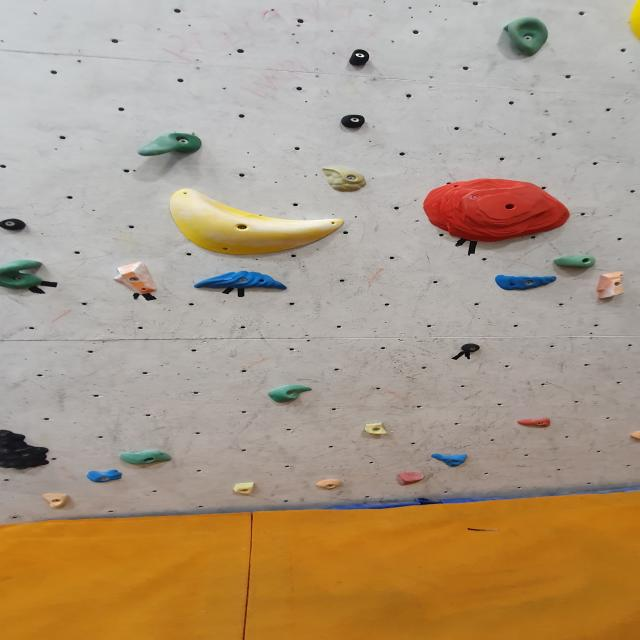Crimp: (422, 180, 574, 244), (189, 267, 295, 294), (312, 164, 372, 193), (493, 274, 562, 291), (430, 446, 475, 468), (33, 490, 81, 510), (306, 478, 348, 495), (392, 470, 431, 488), (228, 482, 266, 499), (356, 420, 388, 439), (518, 417, 556, 432), (86, 469, 124, 482)
Jug: (497, 17, 552, 58), (1, 260, 51, 294), (268, 385, 311, 408), (118, 449, 174, 466), (552, 255, 598, 271)
Pinch: (101, 257, 160, 299), (595, 270, 629, 302), (332, 112, 376, 132), (344, 50, 377, 67), (453, 340, 482, 357), (0, 217, 34, 231)
Sloper: (164, 189, 346, 257), (0, 428, 59, 470)
